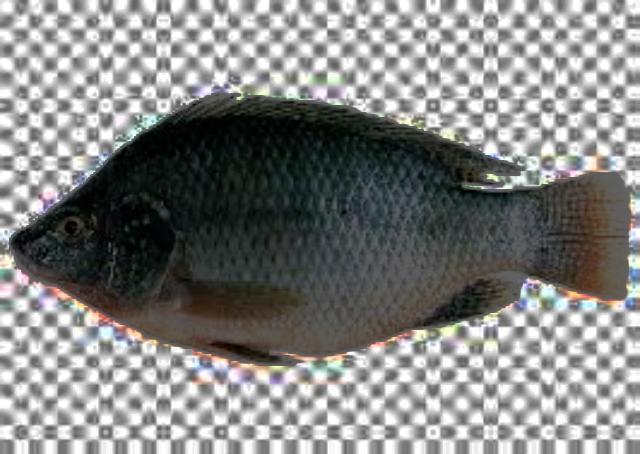Healthy Fish: (10, 94, 633, 368)
